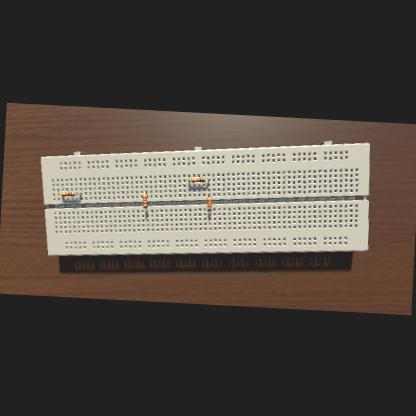breadboard: (35, 124, 372, 272)
resistor: (205, 197, 211, 211), (140, 194, 146, 207), (59, 191, 74, 196), (190, 177, 204, 182)
wire: (144, 207, 146, 210), (143, 192, 146, 194), (204, 178, 207, 180), (208, 211, 210, 213), (207, 194, 208, 196), (188, 180, 190, 180)
